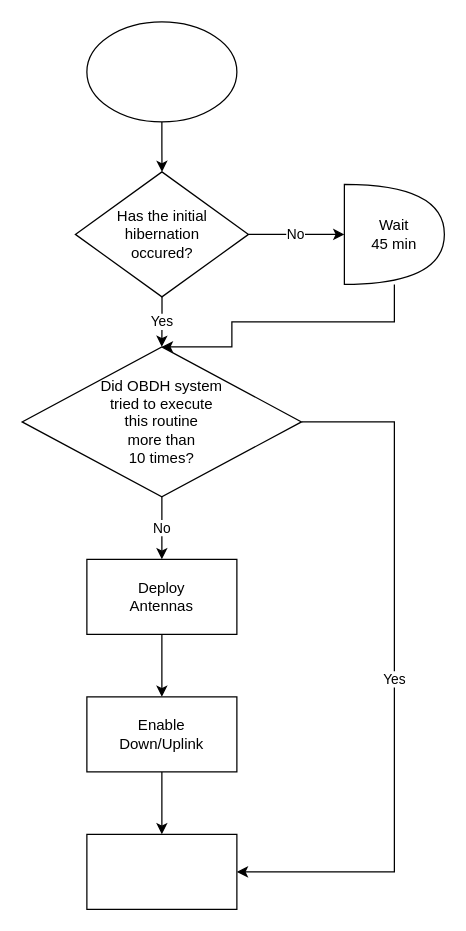
Some shapes in this 466 by 931 pixel diagram are drawn without their labels. The shapes that lost their labels are listed below. From the top down, each one's box as (x1, y1, x2, y2) in pixels, then its label:
(86, 21, 237, 122): Antenna Deploy Routine
(86, 833, 237, 909): End
